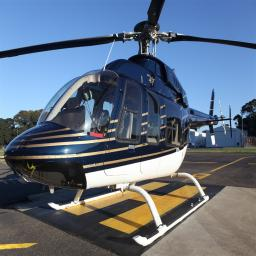helicopter: (2, 12, 230, 250)
